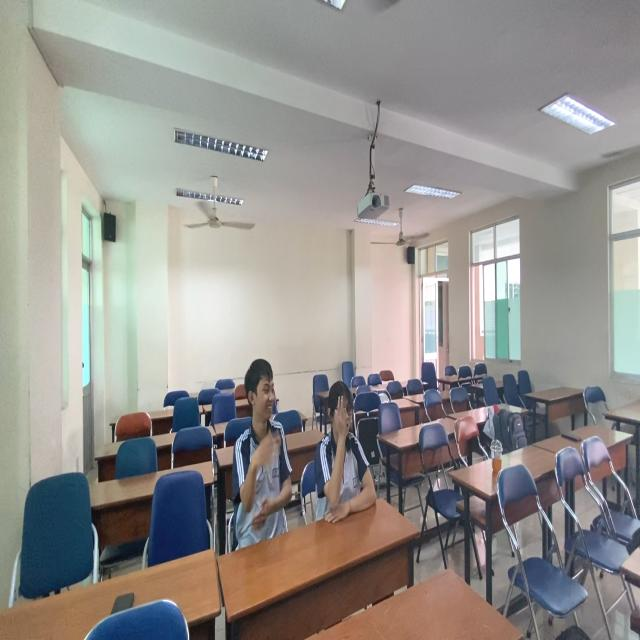raise_hand: (313, 379, 383, 521)
